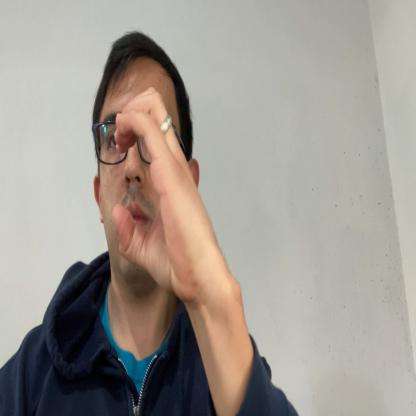C: (113, 86, 206, 303)
